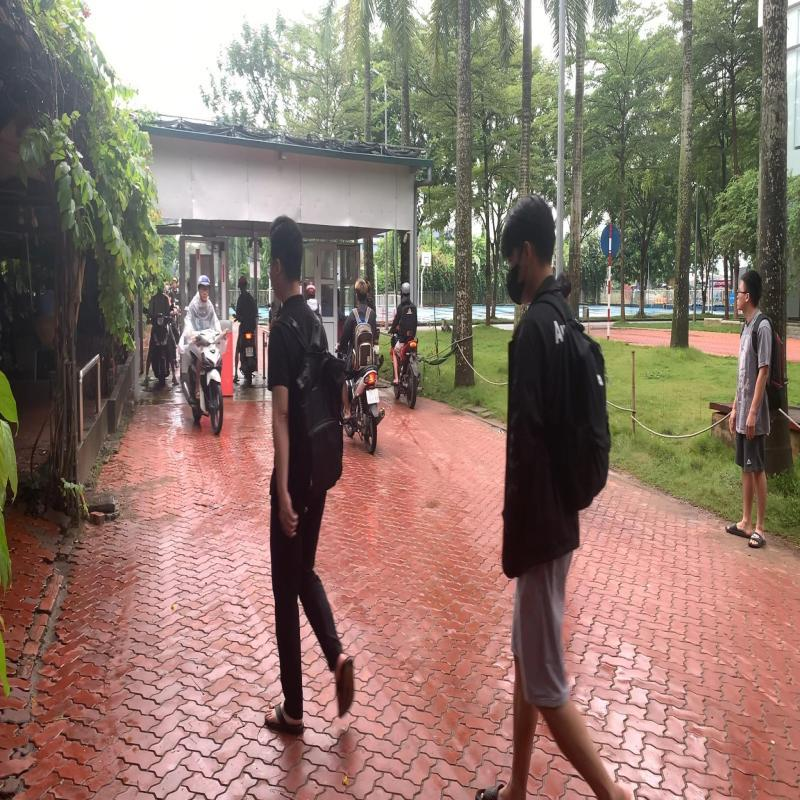nohelmet: (354, 278, 369, 303)
